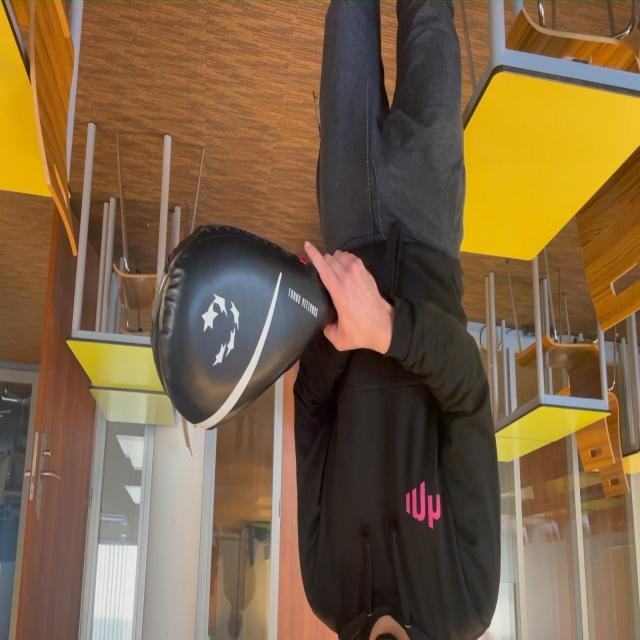paddle: (167, 240, 318, 426)
